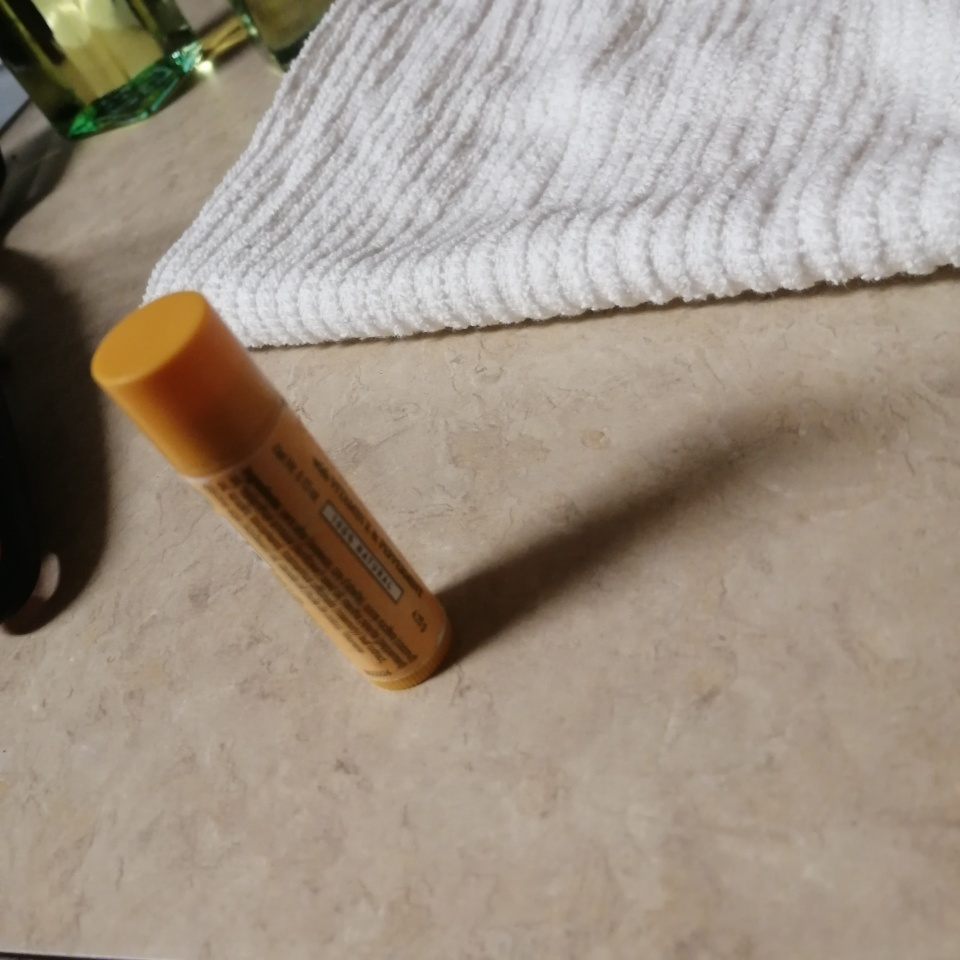chapstick: (89, 288, 456, 693)
